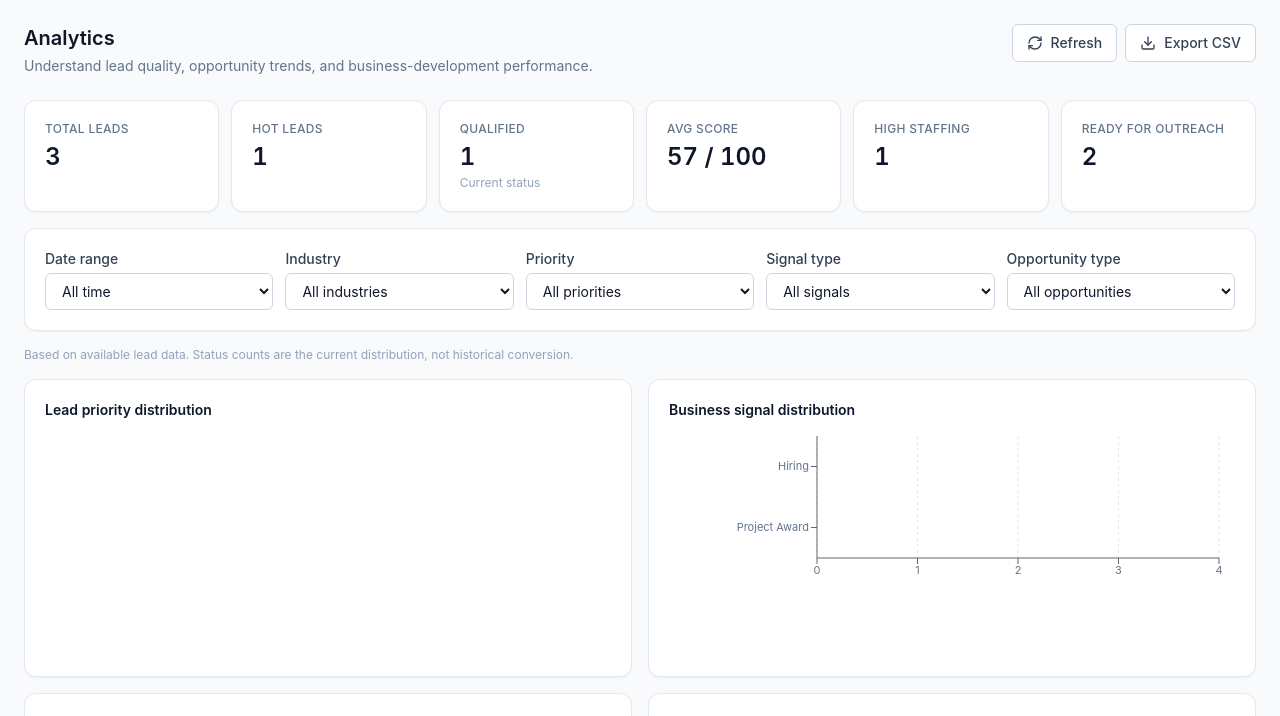
AnalyticsPage › filters by priority and recomputes the KPIs
Check: the text "Total leads" is shown, box [45,121,129,136]
Select "HOT" in the dropdown labelled "Priority" at (640, 292), box [526,273,754,310]
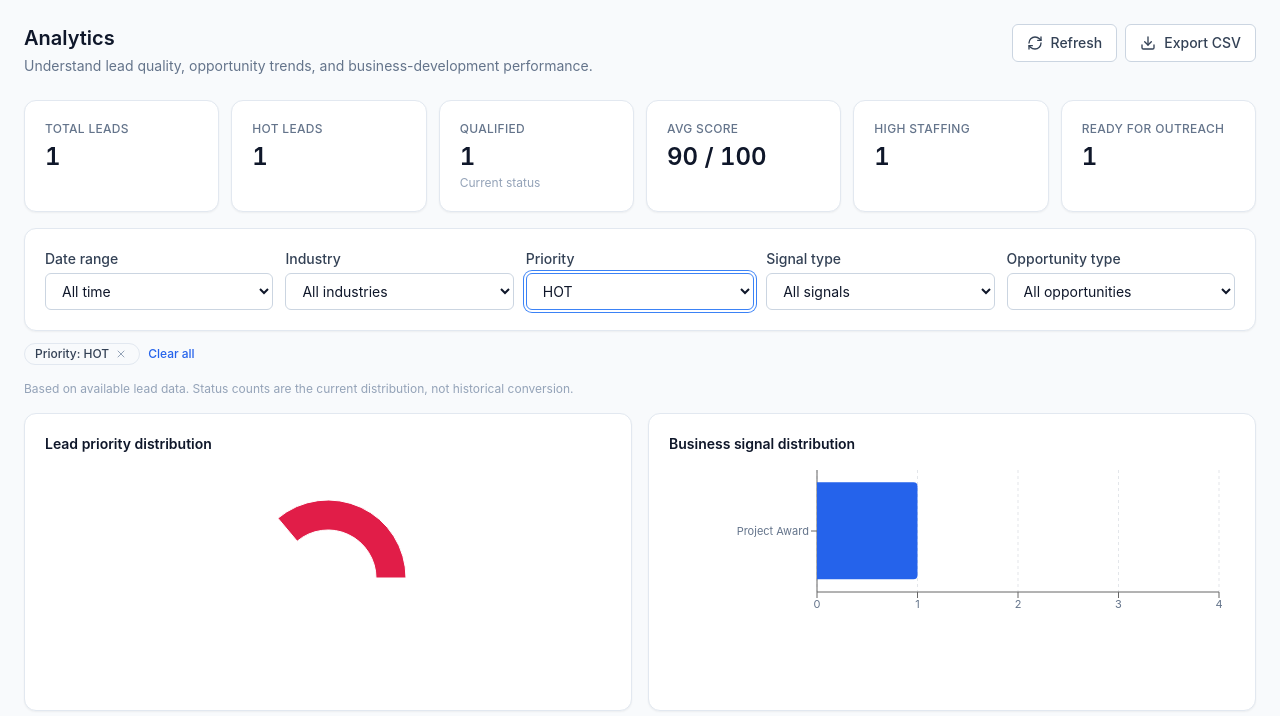
Check: the text "1" below "Total leads" is shown, box [45,142,60,171]
Check: the text "Priority: HOT" is shown, box [24,343,140,365]
